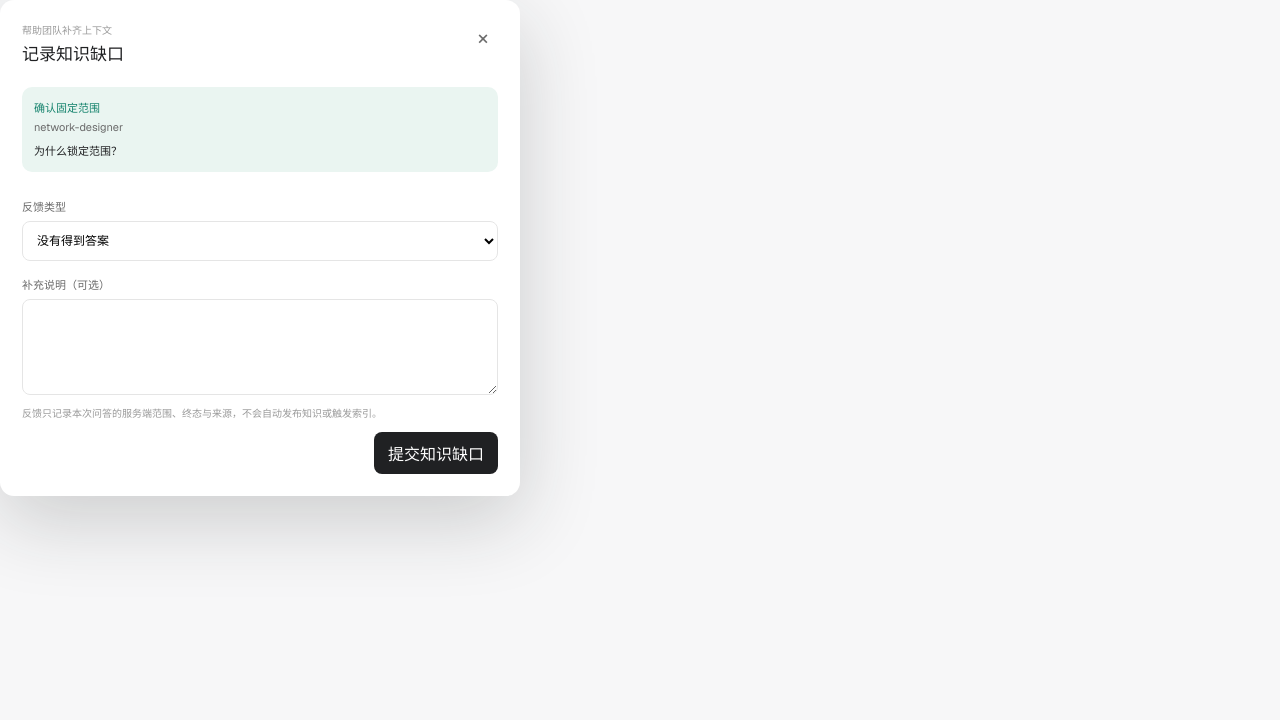
Test: project QA components › reuses the feedback key after a network failure and confirms success
Expected: the dropdown labelled "反馈类型" shows "没有得到答案", [22,221,498,261]
Type "请补充范围隔离的决策背景。" into the text box labelled "补充说明（可选）" at (260,347), box [22,299,498,395]
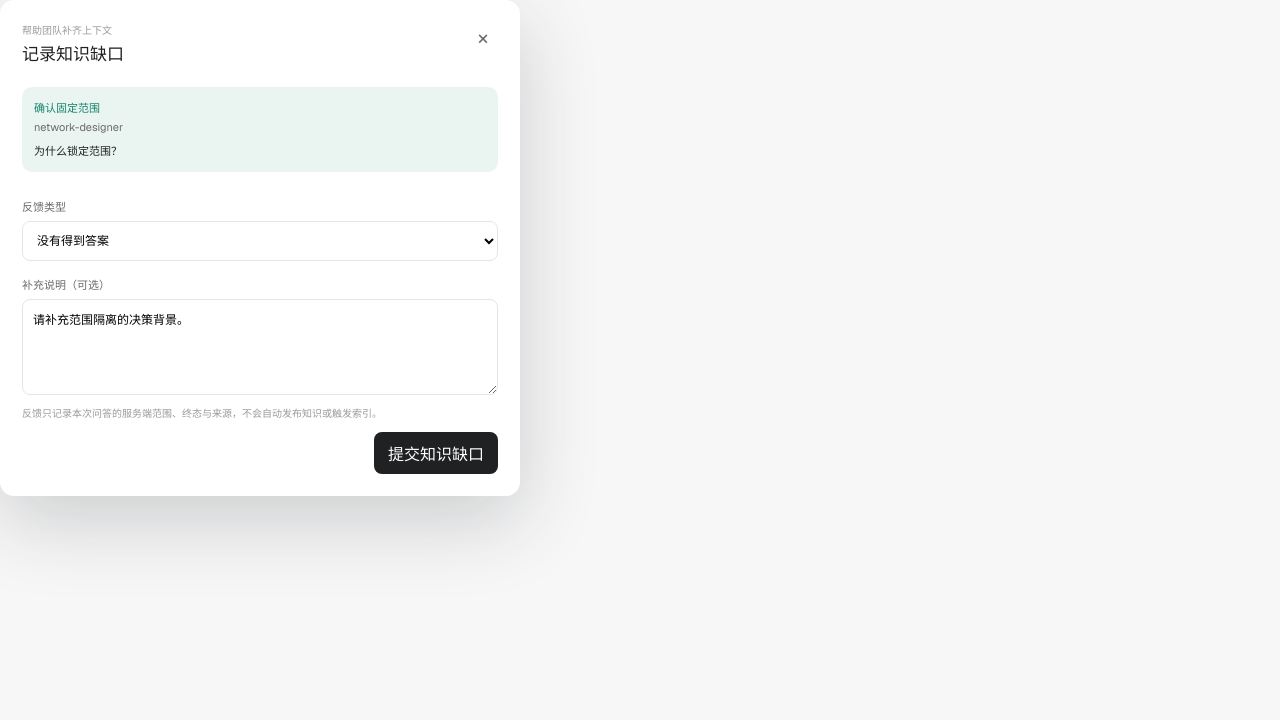
Submit the form, box [22,190,498,474]
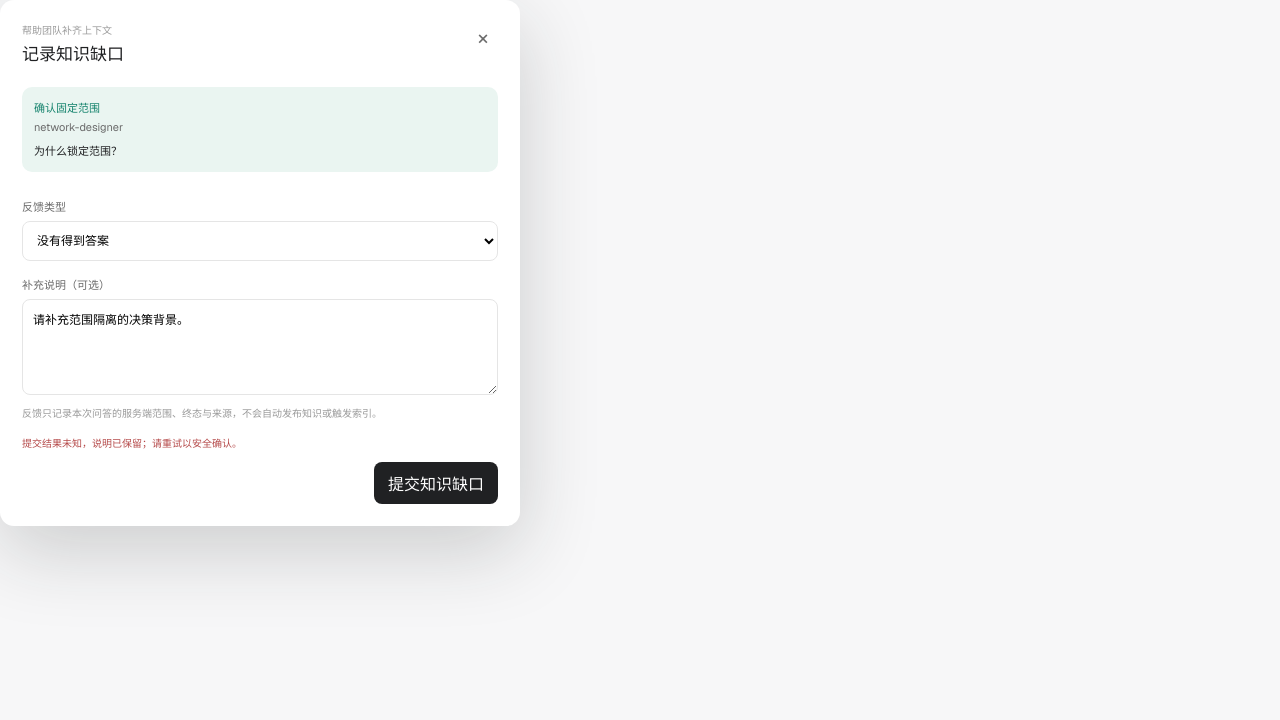
Result: the text "提交结果未知" is shown at [22,437,242,450]
Submit the form, box [22,190,498,504]
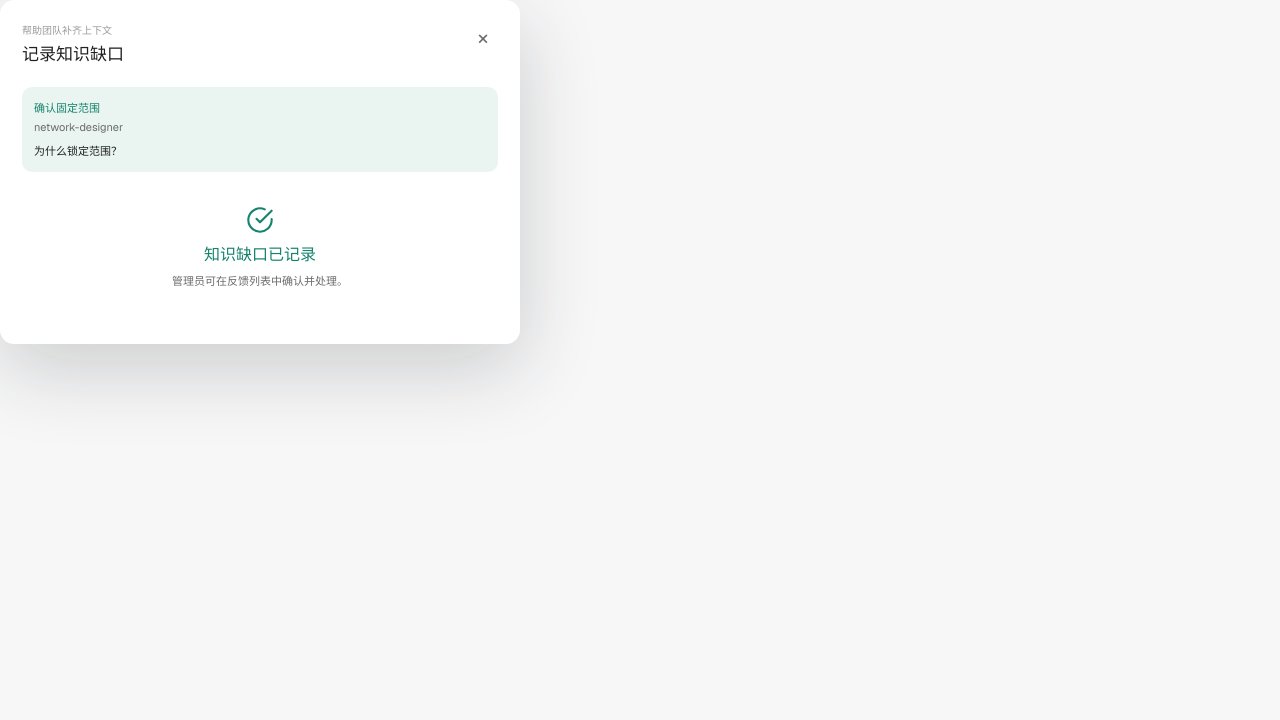
Result: the text "知识缺口已记录" is shown at [204,241,316,265]
